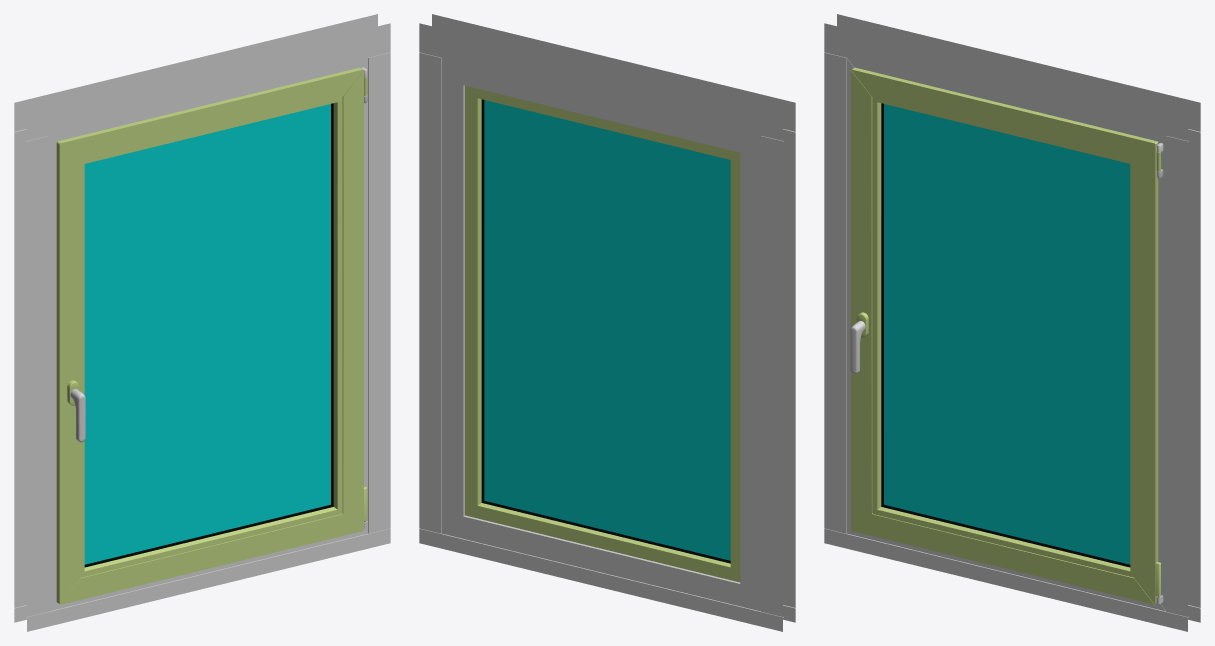
File: #WIN0003_Residential_Plastic_White_142x62x104.fbx
The picture shows the model from 3 angles, left to right: view 1: azimuth 30°, elevation 25°; view 2: azimuth 150°, elevation 25°; view 3: azimuth 330°, elevation 25°; orthographic projection.
Parts seen in each view (by area): view 1: #WIN0003_Window, #WIN0003_Frame, #WIN0003_Handle; view 2: #WIN0003_Window, #WIN0003_Frame; view 3: #WIN0003_Window, #WIN0003_Frame, #WIN0003_Handle.
Boxes of the visible parts, x1,y1,x2,y2 form: #WIN0003_Window: (56,67,367,604); #WIN0003_Frame: (14,14,390,631); #WIN0003_Handle: (70,389,85,442); #WIN0003_Window: (465,85,740,582); #WIN0003_Frame: (419,14,795,631); #WIN0003_Window: (851,67,1160,604); #WIN0003_Frame: (824,14,1200,631); #WIN0003_Handle: (850,321,865,374).
Bounding box in the file's own units: 1.04 × 1.42 × 0.128.
